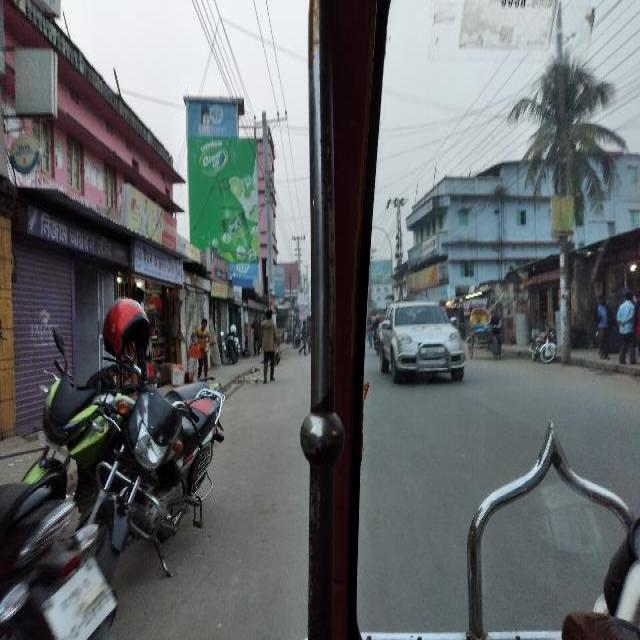car: (377, 299, 467, 384)
motorbike: (105, 351, 231, 593), (16, 335, 146, 489), (3, 478, 123, 637), (530, 324, 556, 364), (220, 325, 240, 363)
rickshaw: (466, 305, 502, 364)
